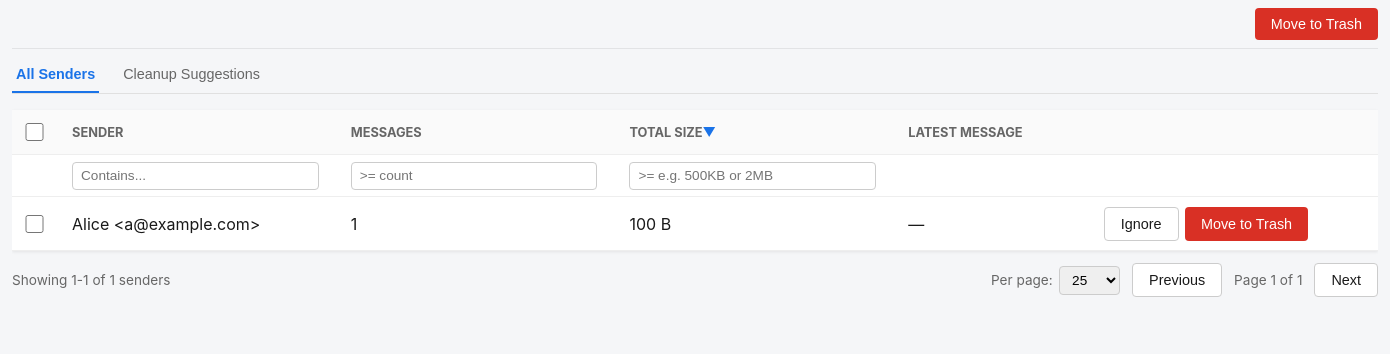
Test: tabs › switches to the Cleanup Suggestions tab and shows its data instead
The width and height of the screenshot is (1390, 354).
Click the tab "Cleanup Suggestions": (192, 75) left=119, top=56, right=264, bottom=93
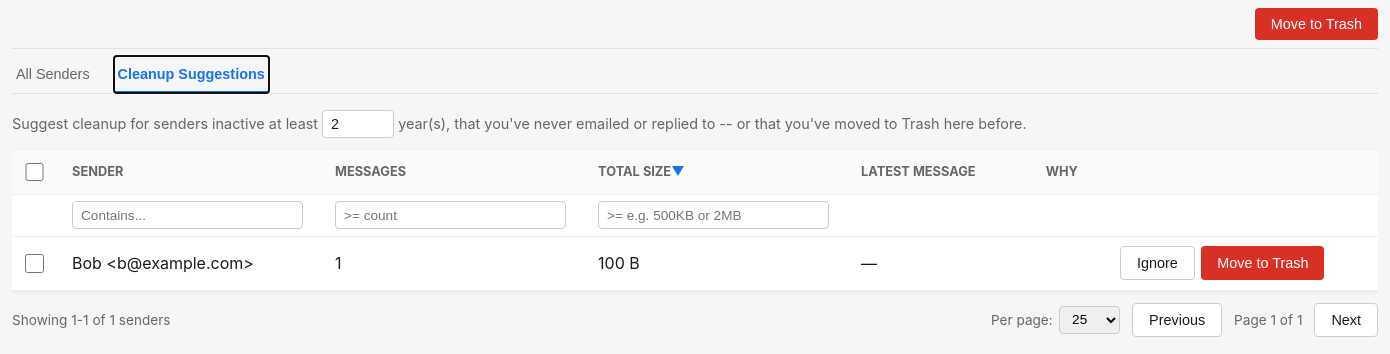
Expected: the text "Alice <a@example.com>" is gone
Expected: the text "Bob <b@example.com>" is shown, left=56, top=236, right=319, bottom=290
